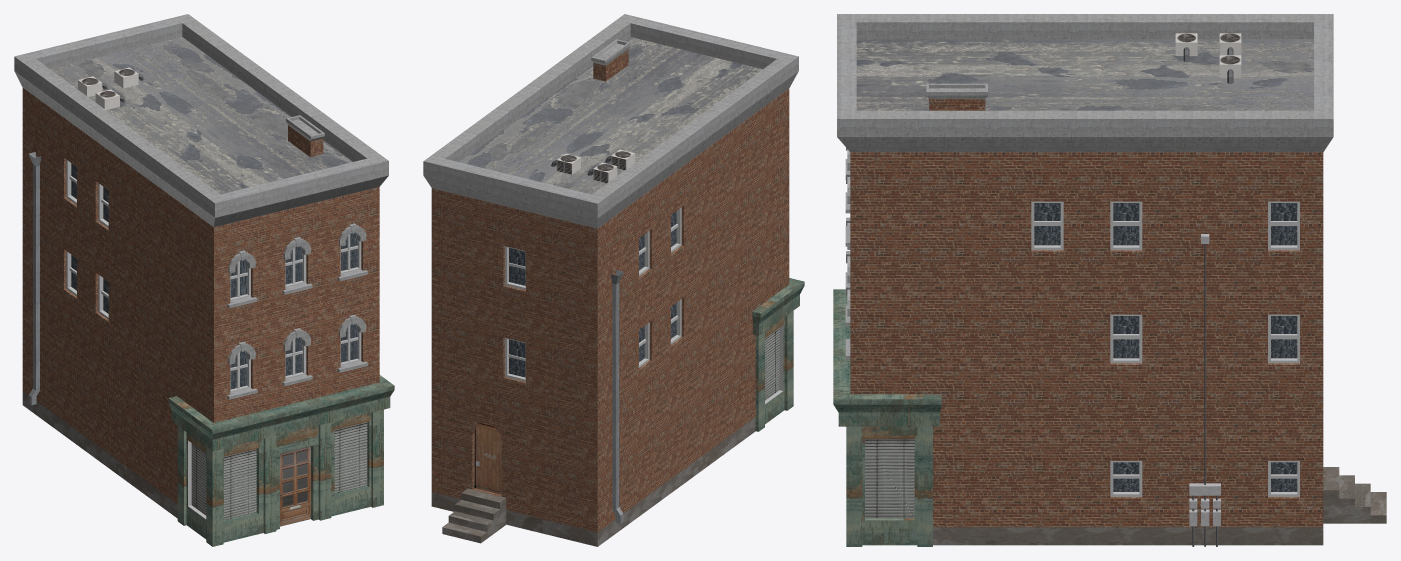
The model's file is Store.fbx.
3 views of the same model, side by side, from view 1: azimuth 30°, elevation 25°; view 2: azimuth 150°, elevation 25°; view 3: azimuth 270°, elevation 25° (orthographic). The views are drawn at different scales.
Visible parts, largest first — view 1: 1.0 store; view 2: 1.0 store; view 3: 1.0 store.
Part boxes in pixels (box(x1,y1,x2,y2)): 1.0 store: box(14, 14, 394, 546); 1.0 store: box(423, 14, 804, 546); 1.0 store: box(833, 14, 1386, 546).
Bounding box in the file's own units: 660 × 1403 × 1228.
